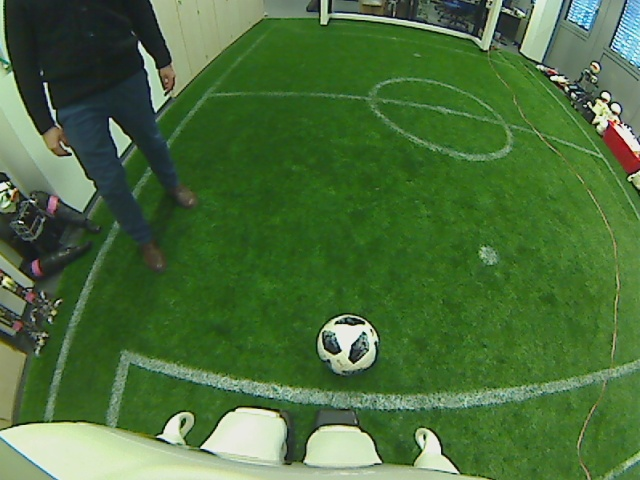ball: (316, 312, 379, 375)
